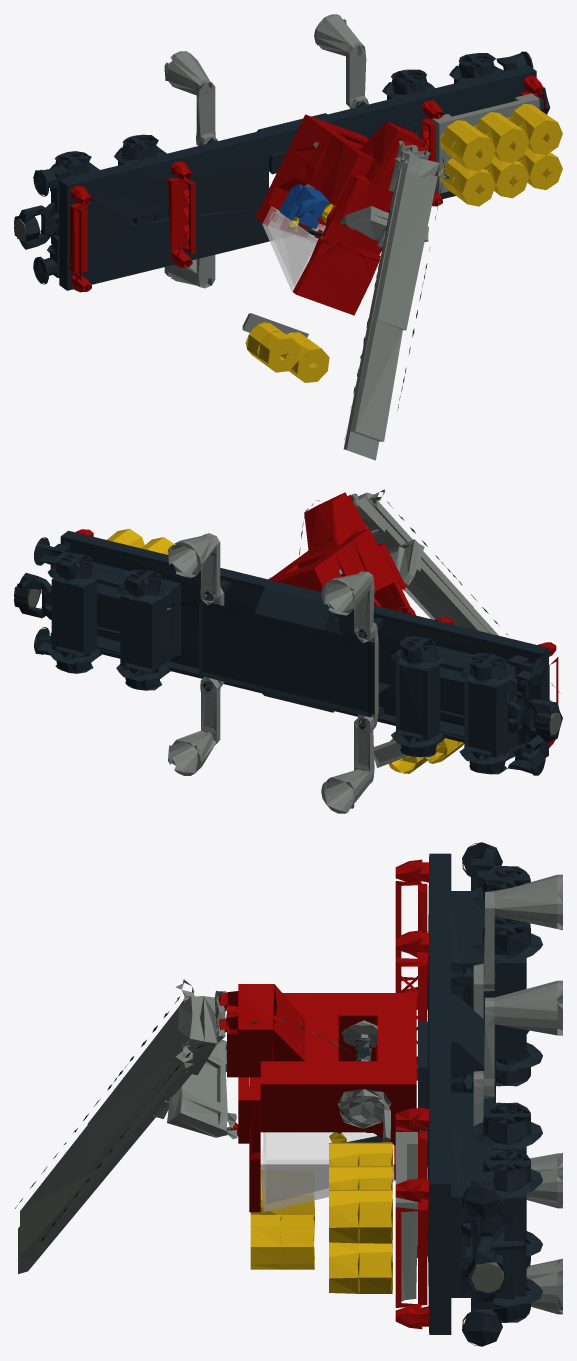
The model's file is crane-wagon.glb.
3 renders of one model, top to bottom at view 1: azimuth 30°, elevation 25°; view 2: azimuth 150°, elevation 25°; view 3: azimuth 270°, elevation 25°, orthographic. The views are drawn at different scales.
Bounding box in the file's own units: 250 × 124 × 158.
